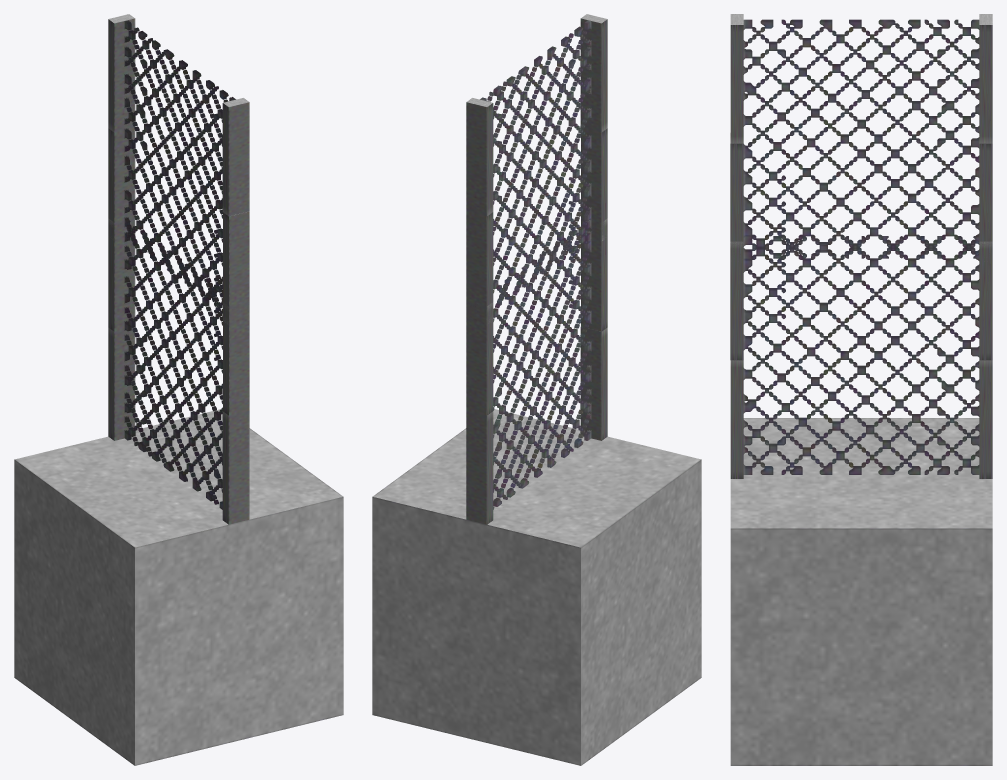
Rendered from wall.obj.
3 views of the same model, side by side, from view 1: azimuth 30°, elevation 25°; view 2: azimuth 150°, elevation 25°; view 3: azimuth 270°, elevation 25° (orthographic). The views are drawn at different scales.
Parts seen in each view (by area): view 1: Cube; view 2: Cube; view 3: Cube.
Boxes of the visible parts, x1,y1,x2,y2 form: Cube: (14, 14, 343, 765); Cube: (372, 14, 701, 765); Cube: (730, 14, 992, 765).
Size of the model in its own units: 1 by 2.91 by 1.
